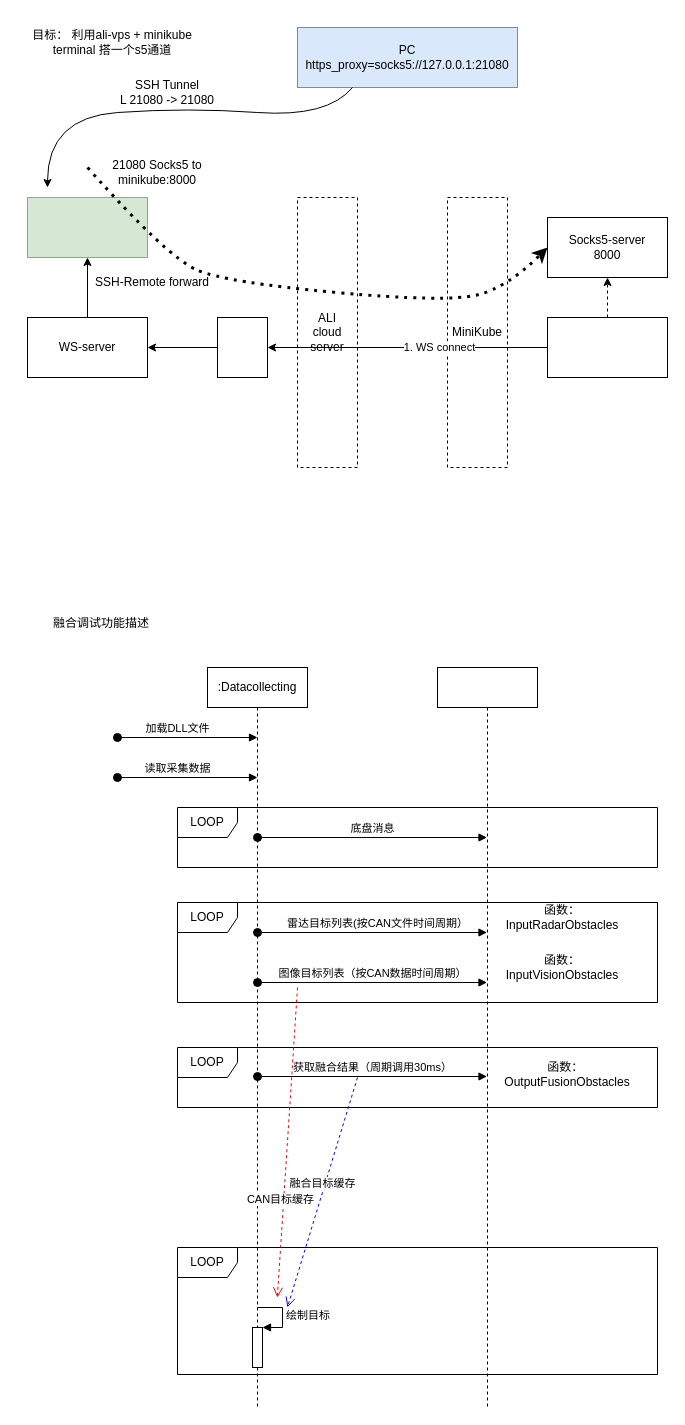
Some shapes in this 685 by 1425 pixel diagram are drawn without their labels. Each missing label, with the box of its shape:
:FusionDLL: (436, 666, 538, 1408)
NG: (216, 316, 268, 378)
sshserv: (26, 196, 148, 258)
WS-client + SSH client: (546, 316, 668, 378)
